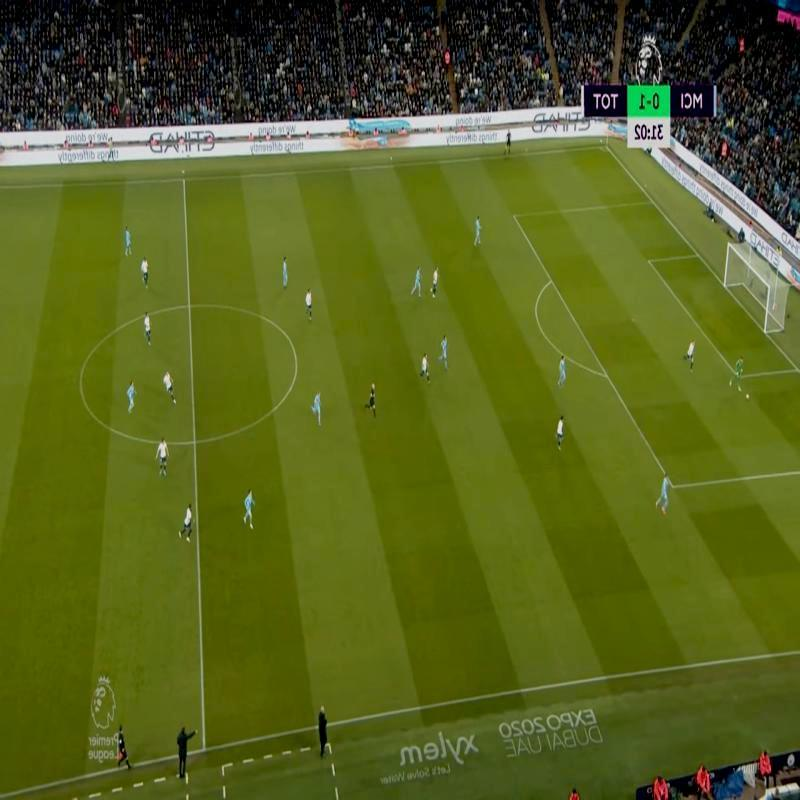1: (598, 139, 614, 155)
10: (542, 273, 558, 289)
11: (598, 368, 615, 385)
12: (667, 478, 680, 496)
13: (179, 172, 189, 188)
14: (180, 299, 195, 314)
15: (187, 435, 203, 450)
16: (192, 738, 214, 762)
3: (692, 249, 703, 262)
4: (794, 362, 800, 376)
8: (734, 369, 745, 386)
9: (644, 195, 660, 211), (641, 252, 656, 268), (506, 208, 522, 222)
c: (287, 355, 302, 370), (74, 376, 88, 390)
